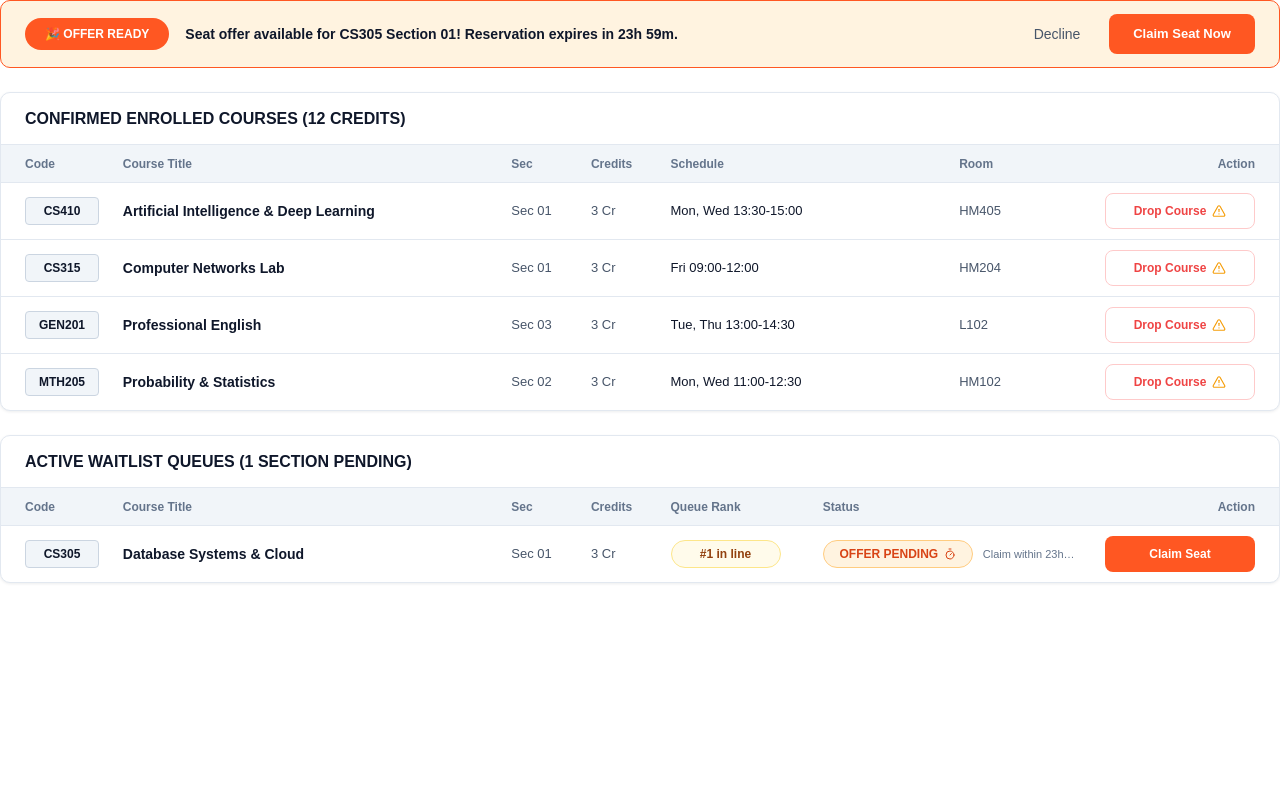
it: RegisteredPage › shows a seat offer banner and claims the seat
The width and height of the screenshot is (1280, 800).
Expected: the text "🎉 OFFER READY" is shown, top-left (25, 18), bottom-right (169, 50)
Expected: the text "Seat offer available for CS305 Section 01! Reservation expires in 23h 59m." is shown, top-left (185, 24), bottom-right (678, 44)
Click the button "Claim Seat Now" at (1182, 34), box top-left (1109, 14), bottom-right (1255, 54)
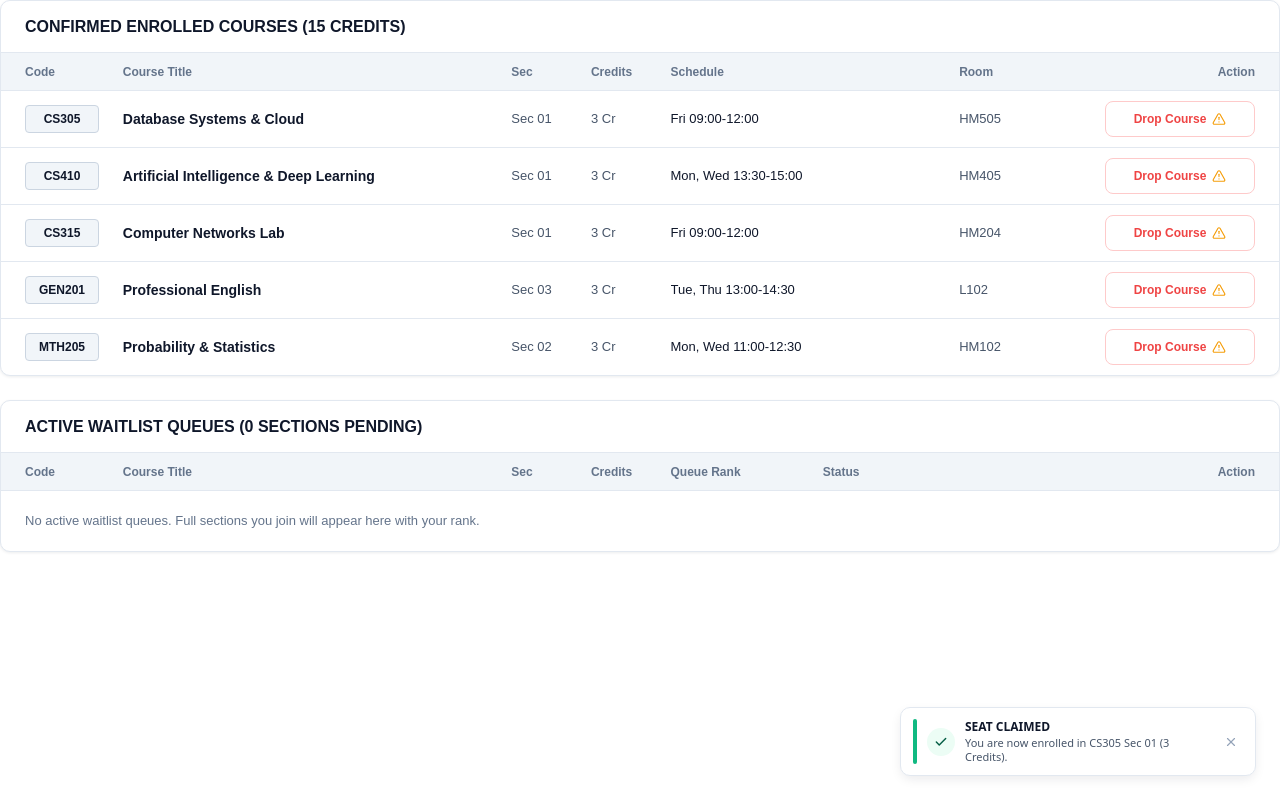
Expected: the text "Database Systems & Cloud" is shown, top-left (123, 111), bottom-right (304, 127)
Expected: the text "Seat claimed" is shown, top-left (965, 718), bottom-right (1050, 735)
Expected: the text "🎉 OFFER READY" is gone
